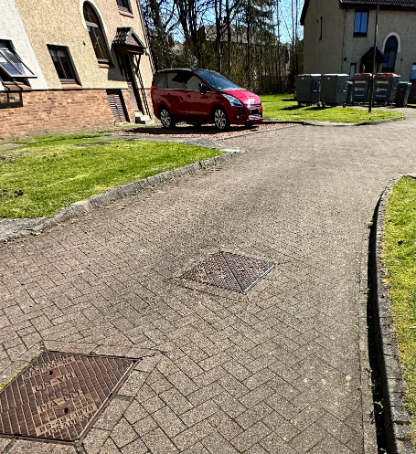car: (146, 65, 280, 134)
